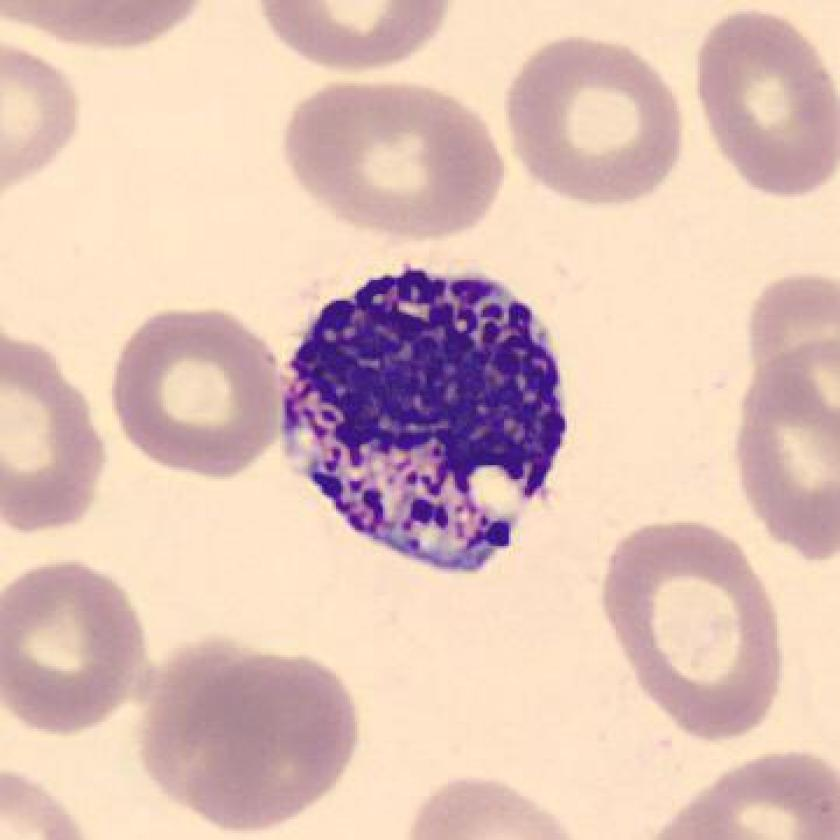basophil: (281, 265, 573, 579)
